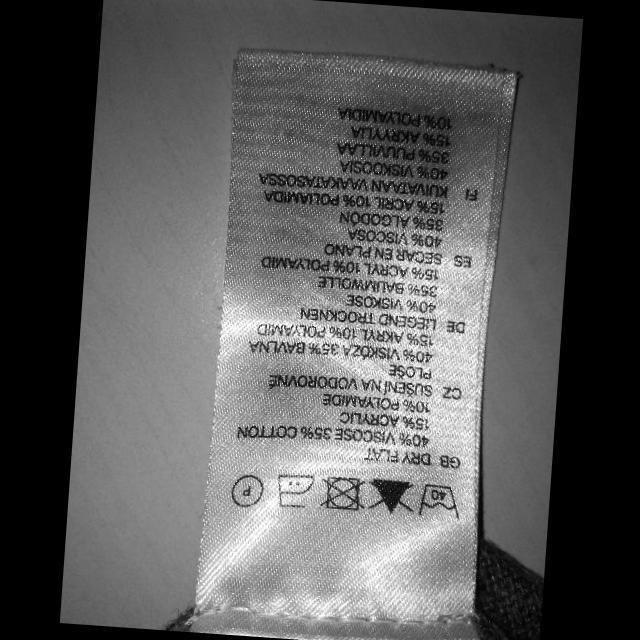40C: (416, 480, 460, 519)
DN_bleach: (364, 474, 416, 515)
DN_tumble_dry: (316, 472, 366, 512)
iron_medium: (274, 471, 314, 508)
normal_dry_clean_solvents: (228, 471, 266, 508)
